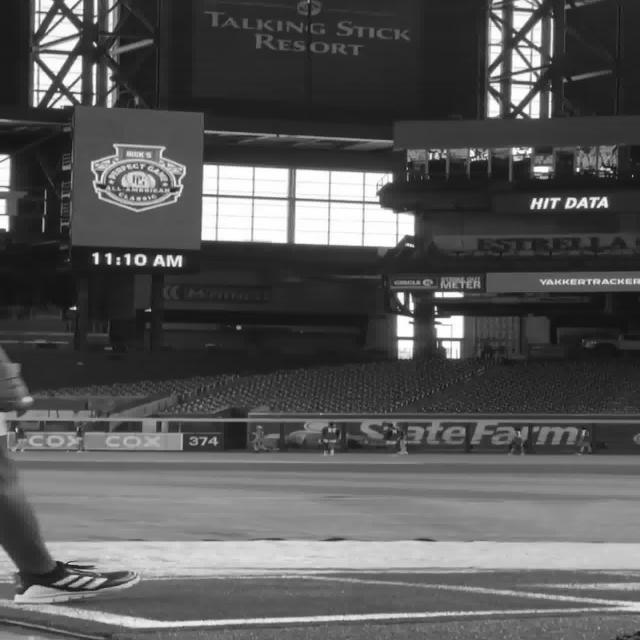shoe: (12, 560, 140, 604)
